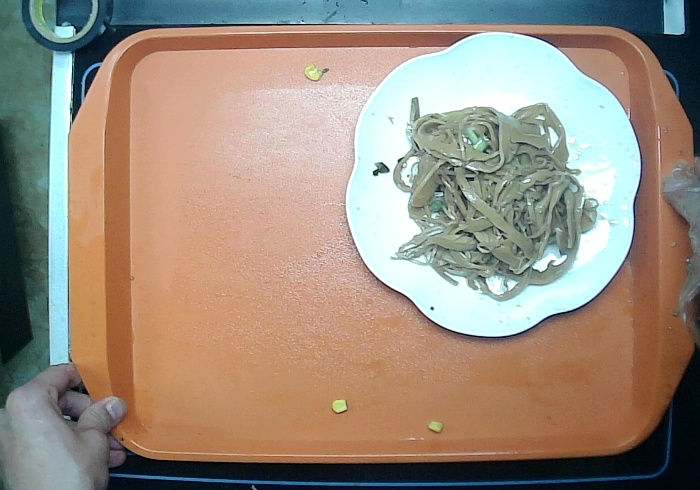HZYJPL-Bai_Se_Hua_Duo_Wan: (343, 30, 644, 338)
